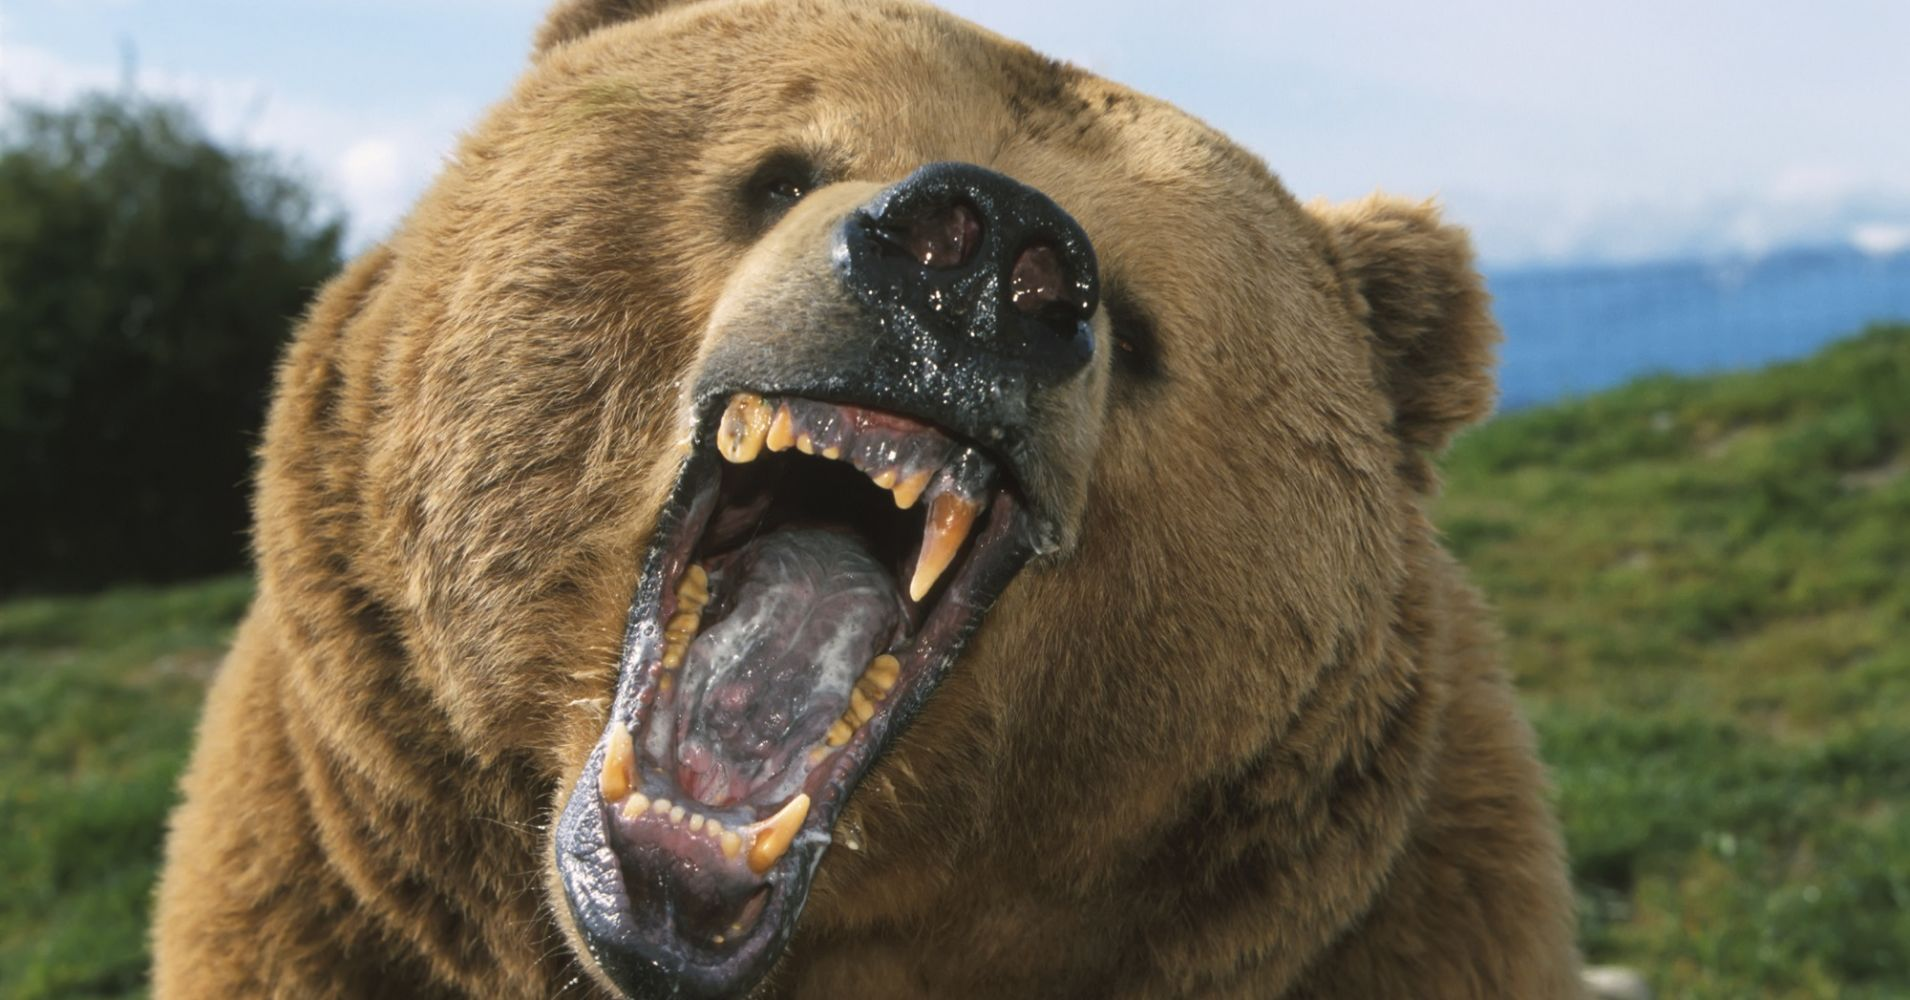bear: (130, 1, 1594, 1000)
